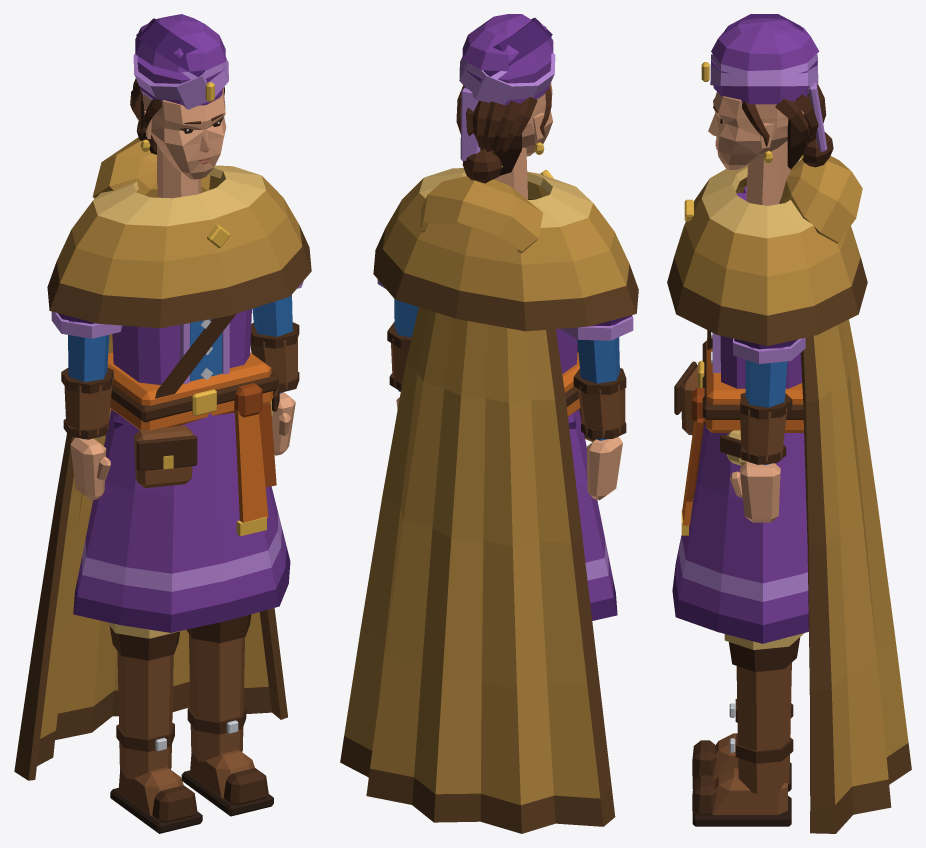
The model's file is merchant.glb.
The picture shows the model from 3 angles, left to right: view 1: azimuth 30°, elevation 25°; view 2: azimuth 150°, elevation 25°; view 3: azimuth 270°, elevation 25°; orthographic projection.
Visible parts, largest first — view 1: TunicSkirt, Capelet, Cloak, LegR_Shaft, LegL_Shaft, Chest, HeadMesh, Sash, TurbanTop, SashTail1, Hood, TurbanWrap1 (+30 smaller); view 2: Cloak, Capelet, Hood, TunicSkirt, TurbanTop, TurbanWrap1, ArmR_Hand, ArmR_Fore, ArmR_Bracer, TurbanWrap2, HairBun, ArmR_SleeveTrimA (+11 smaller); view 3: Cloak, Capelet, TunicSkirt, LegL_Shaft, Hood, TurbanTop, HeadMesh, LegL_Foot, ArmL_Hand, TurbanWrap1, Sash, Neck (+22 smaller).
Boxes of the visible parts, box(x1,y1,x2,y2) form: TunicSkirt: box(73, 409, 290, 632); Capelet: box(47, 165, 311, 328); Cloak: box(14, 334, 287, 780); LegR_Shaft: box(117, 651, 173, 779); LegL_Shaft: box(189, 634, 244, 761); Chest: box(112, 309, 251, 384); HeadMesh: box(143, 88, 226, 179); Sash: box(107, 352, 273, 430); TurbanTop: box(135, 14, 225, 72); SashTail1: box(234, 410, 268, 522); Hood: box(92, 137, 210, 198); TurbanWrap1: box(133, 54, 228, 109); Cloak: box(340, 307, 615, 833); Capelet: box(373, 168, 638, 331); Hood: box(420, 176, 543, 253); TunicSkirt: box(568, 409, 617, 620); TurbanTop: box(462, 14, 553, 71); TurbanWrap1: box(459, 52, 555, 104); ArmR_Hand: box(587, 436, 622, 500); ArmR_Fore: box(577, 337, 619, 440); ArmR_Bracer: box(577, 384, 625, 437); TurbanWrap2: box(483, 17, 552, 76); HairBun: box(462, 148, 501, 183); ArmR_SleeveTrimA: box(560, 315, 633, 340); Cloak: box(800, 319, 911, 833); Capelet: box(667, 165, 867, 345); TunicSkirt: box(672, 424, 808, 643); LegL_Shaft: box(736, 662, 791, 793); Hood: box(779, 156, 862, 243); TurbanTop: box(711, 18, 819, 70); HeadMesh: box(713, 92, 804, 169); LegL_Foot: box(711, 768, 787, 815); ArmL_Hand: box(740, 461, 780, 522); TurbanWrap1: box(710, 54, 818, 86); Sash: box(705, 338, 803, 432); Neck: box(746, 140, 790, 205).
Bounding box in the file's own units: 0.6618 × 1.87 × 0.5328.
